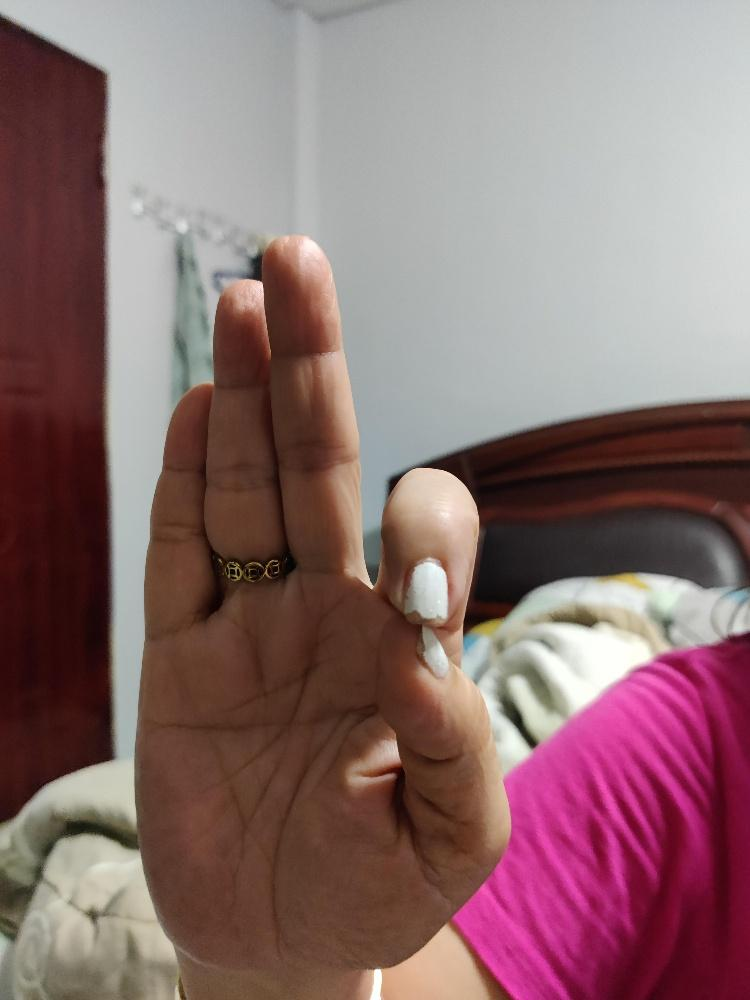f: (130, 230, 514, 980)
